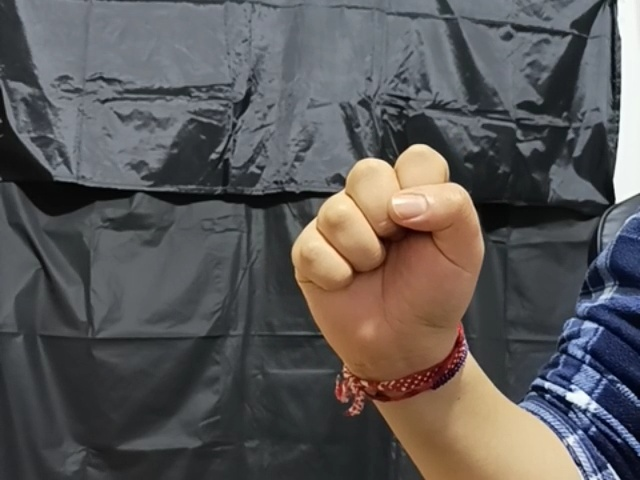S: (280, 139, 489, 347)
